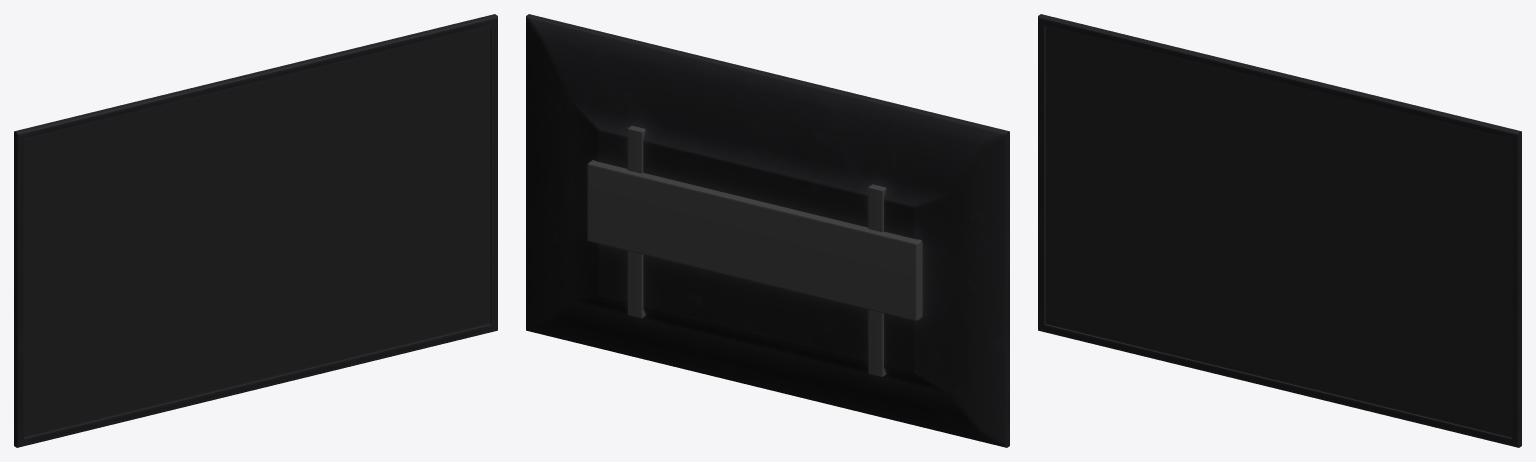
3 views of the same model, side by side, from view 1: azimuth 30°, elevation 25°; view 2: azimuth 150°, elevation 25°; view 3: azimuth 330°, elevation 25° (orthographic).
Visible parts, largest first — view 1: TV; view 2: TV; view 3: TV.
Part boxes in pixels (x1=…): TV: x1=14, y1=14, x2=497, y2=447; TV: x1=526, y1=14, x2=1009, y2=447; TV: x1=1038, y1=14, x2=1521, y2=447.
Bounding box in the file's own units: 0.016 × 0.01 × 0.00105.
Materials: 1 (1 with a texture image).
